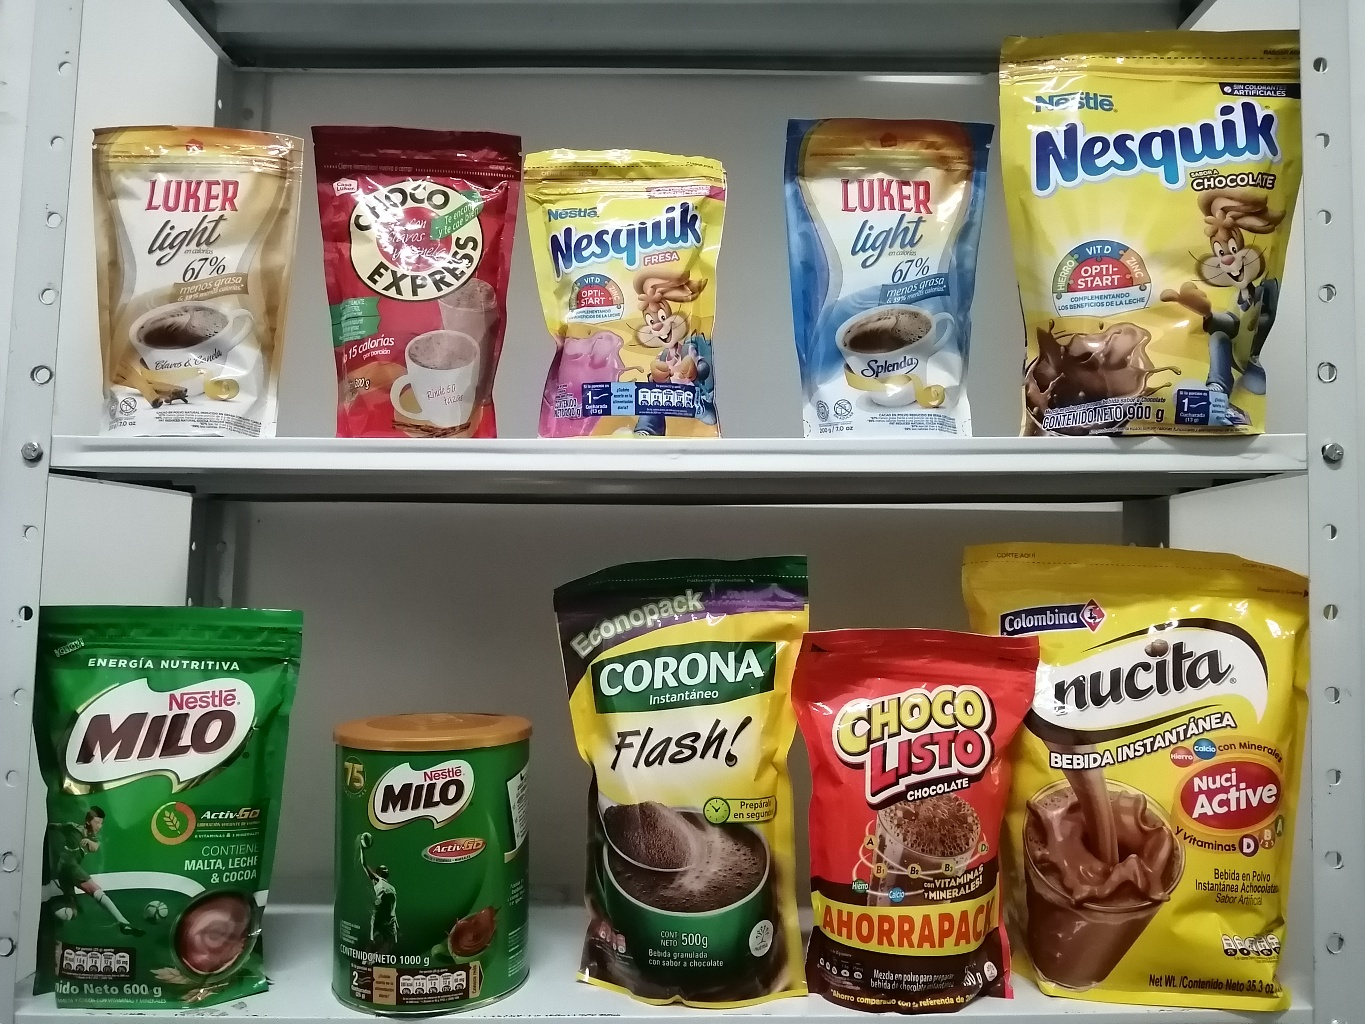COL0170103DYP40000: (785, 623, 1032, 1020)
COL0170305DYP20000: (523, 134, 740, 447)
